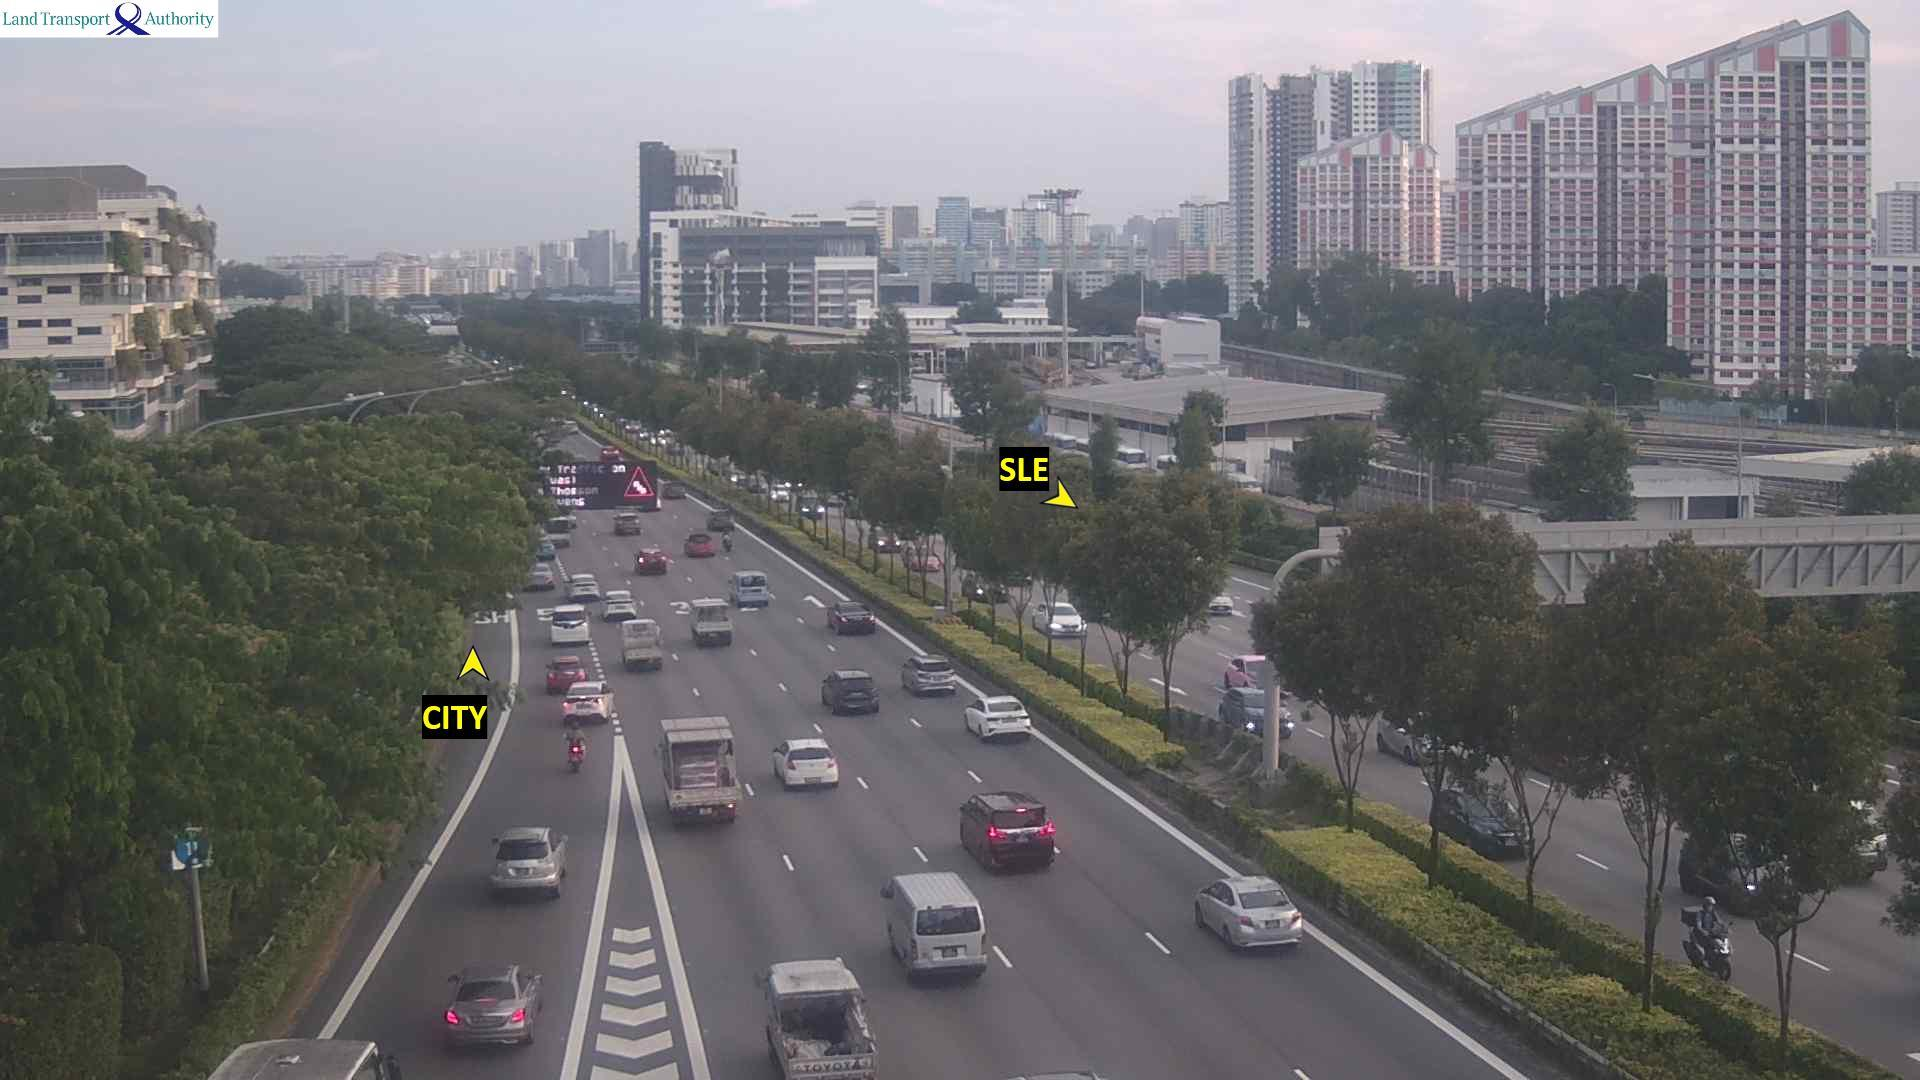incoming: (1452, 793, 1540, 862), (1689, 916, 1749, 989), (1229, 691, 1298, 741), (1039, 604, 1085, 638), (870, 525, 903, 554), (795, 495, 827, 520)
